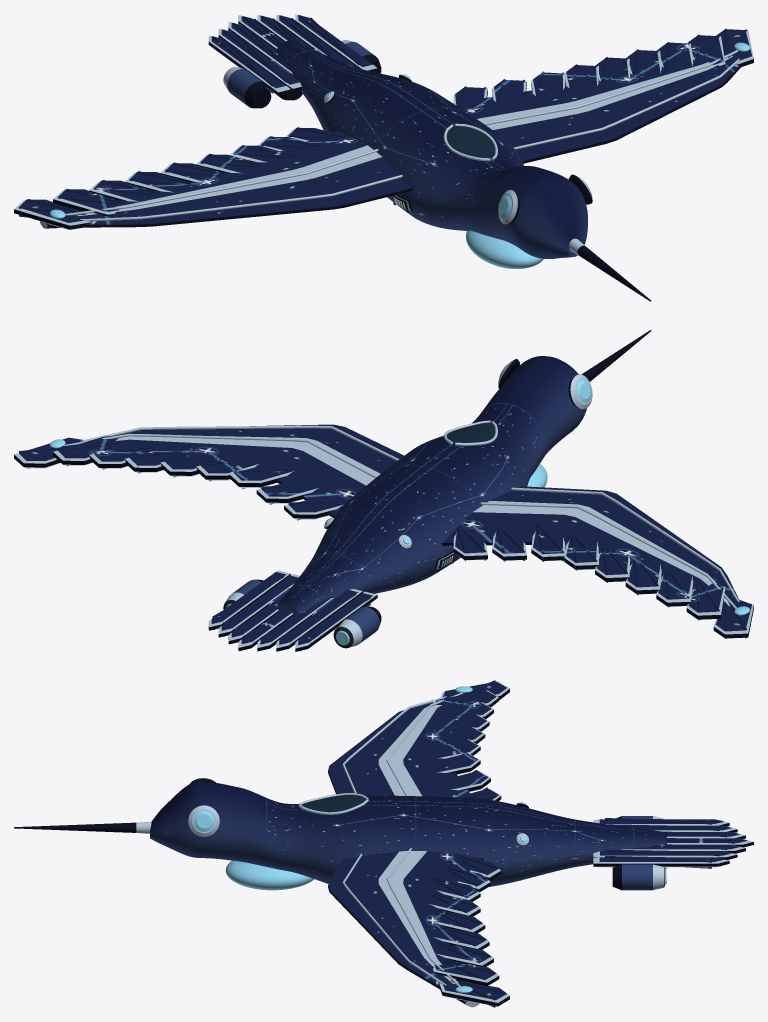
The picture shows the model from 3 angles, top to bottom: view 1: azimuth 30°, elevation 25°; view 2: azimuth 150°, elevation 25°; view 3: azimuth 270°, elevation 25°; orthographic projection. The views are drawn at different scales.
Parts seen in each view (by area): view 1: hummingbird_hull; view 2: hummingbird_hull; view 3: hummingbird_hull.
Part boxes in pixels (box(x1,y1,x2,y2)): hummingbird_hull: box(14, 14, 753, 301); hummingbird_hull: box(14, 330, 753, 651); hummingbird_hull: box(14, 680, 753, 1007).
Bounding box in the file's own units: 17 × 2.47 × 16.53.
1 material, 1 textured.
